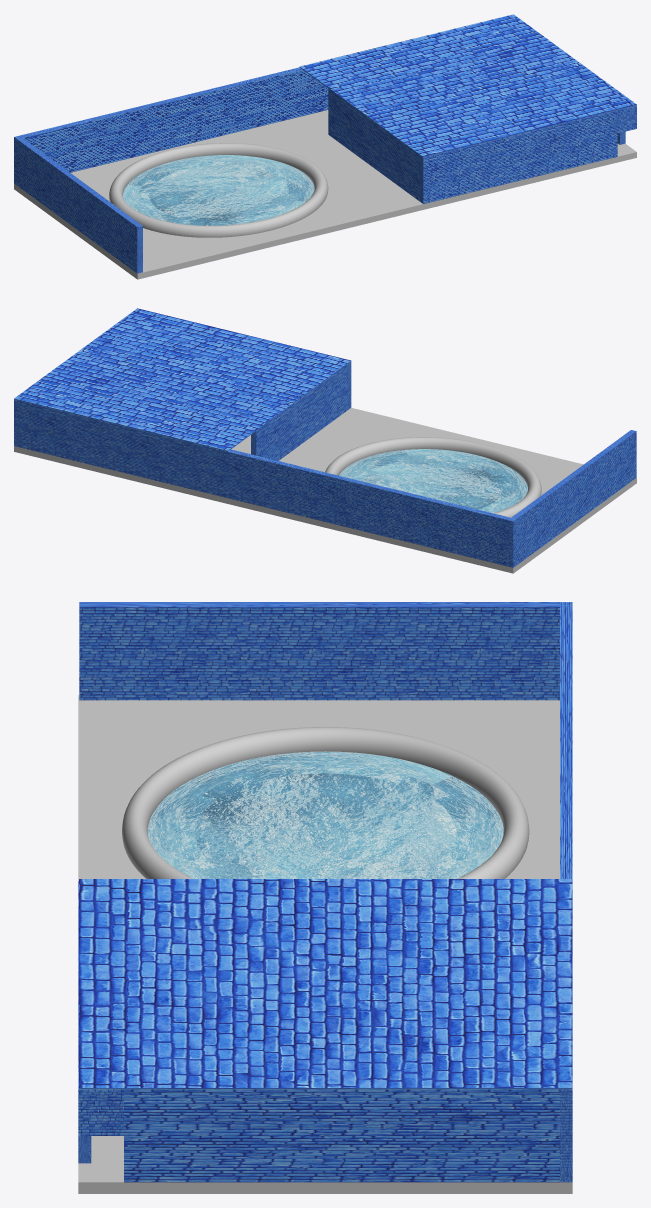
Rendered from PenguinRoomFULLTHICK.fbx.
The picture shows the model from 3 angles, top to bottom: view 1: azimuth 30°, elevation 25°; view 2: azimuth 150°, elevation 25°; view 3: azimuth 270°, elevation 25°; orthographic projection. The views are drawn at different scales.
Visible parts, largest first — view 1: Cube.004, Cube.007, Cube.002, Sphere.001, Cube.003, Cube.006, Torus.001, Cube.001, EXTRA; view 2: Cube.004, Cube.002, Cube.007, Sphere.001, Cube.006, Cube.001, Torus.001; view 3: Cube.004, Cube.006, Cube.007, Cube.005, Sphere.001, Torus.001, Cube.002, EXTRA.
Boxes of the visible parts, left/top/right/bottom form: Cube.004: left=299, top=14, right=636, bottom=157; Cube.007: left=14, top=110, right=636, bottom=279; Cube.002: left=14, top=67, right=328, bottom=172; Sphere.001: left=123, top=155, right=314, bottom=225; Cube.003: left=420, top=111, right=617, bottom=203; Cube.006: left=14, top=135, right=142, bottom=273; Torus.001: left=109, top=143, right=328, bottom=237; Cube.001: left=328, top=88, right=419, bottom=201; EXTRA: left=614, top=105, right=636, bottom=133; Cube.004: left=14, top=308, right=351, bottom=451; Cube.002: left=14, top=399, right=516, bottom=567; Cube.007: left=14, top=407, right=636, bottom=573; Sphere.001: left=339, top=449, right=527, bottom=513; Cube.006: left=508, top=430, right=636, bottom=567; Cube.001: left=251, top=364, right=347, bottom=460; Torus.001: left=325, top=437, right=541, bottom=517; Cube.004: left=79, top=879, right=572, bottom=1089; Cube.006: left=79, top=602, right=572, bottom=700; Cube.007: left=78, top=695, right=572, bottom=1193; Cube.005: left=124, top=1086, right=572, bottom=1182; Sphere.001: left=147, top=751, right=503, bottom=878; Torus.001: left=122, top=727, right=529, bottom=878; Cube.002: left=560, top=602, right=572, bottom=1182; EXTRA: left=78, top=1068, right=123, bottom=1135.
Bounding box in the file's own units: 90.03 × 9.15 × 38.58.
